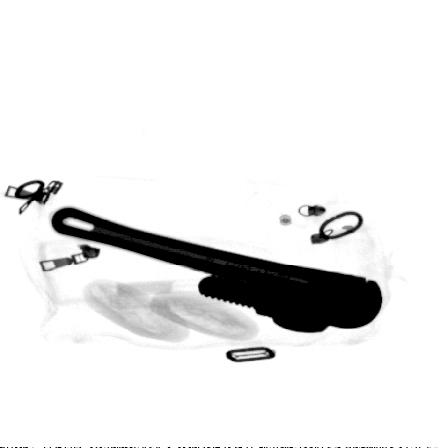Wrench: (46, 203, 384, 334)
